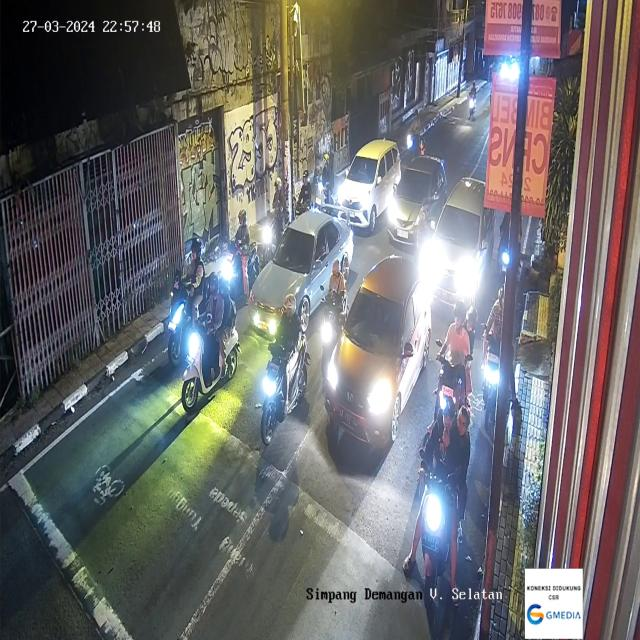car: (319, 259, 432, 442), (251, 211, 357, 338), (422, 174, 498, 293), (338, 140, 400, 232), (387, 152, 441, 244)
motorcycle: (417, 405, 468, 599), (182, 276, 239, 416), (259, 288, 307, 446), (438, 291, 478, 424), (169, 241, 210, 363), (482, 277, 511, 417), (318, 261, 351, 364), (224, 212, 263, 292), (266, 176, 288, 246), (316, 143, 337, 210), (294, 168, 312, 224), (406, 113, 422, 164), (465, 82, 479, 124)
